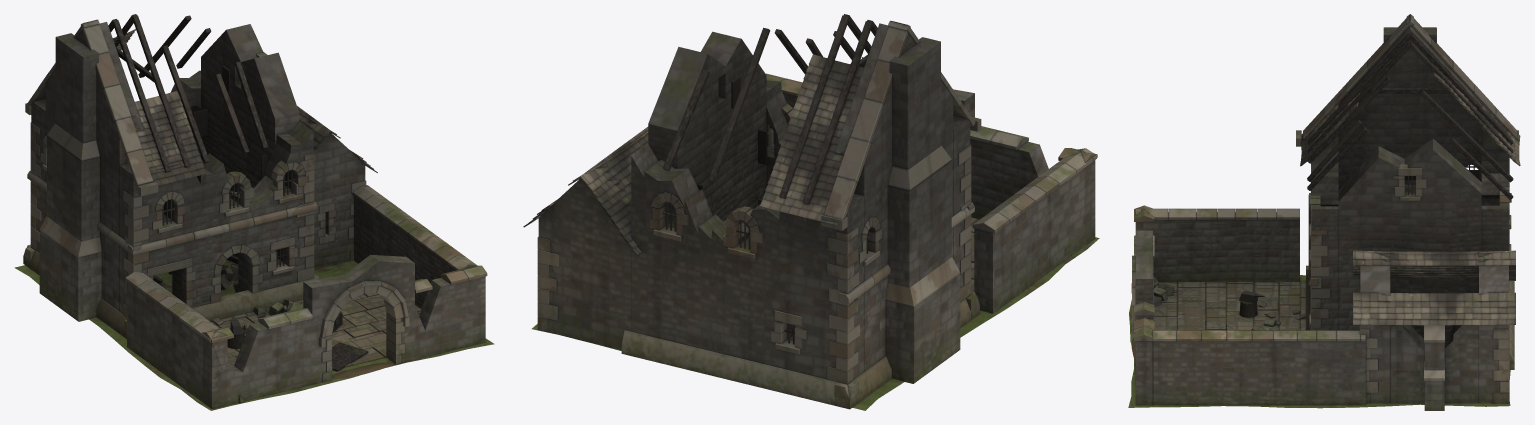
Rendered from mint_ruin.glb.
The picture shows the model from 3 angles, left to right: view 1: azimuth 30°, elevation 25°; view 2: azimuth 150°, elevation 25°; view 3: azimuth 270°, elevation 25°; orthographic projection. The views are drawn at different scales.
Visible parts, largest first — view 1: mint_ruin_LOD0; view 2: mint_ruin_LOD0; view 3: mint_ruin_LOD0.
Boxes of the visible parts, bbox=[...] form: mint_ruin_LOD0: bbox=[14, 14, 494, 410]; mint_ruin_LOD0: bbox=[523, 14, 1099, 410]; mint_ruin_LOD0: bbox=[1128, 14, 1520, 410].
Size of what is drawn, in the model's own units: 11.56 by 10.6 by 13.72.
1 material, 1 textured.
